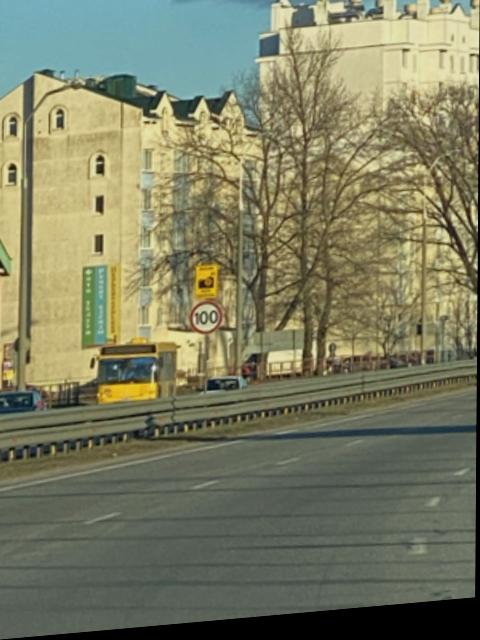limit100: (182, 301, 228, 342)
